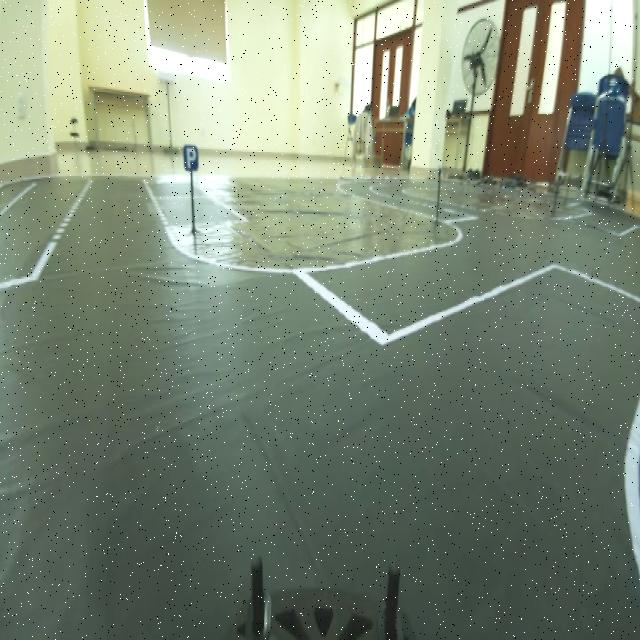parking: (178, 132, 202, 183)
